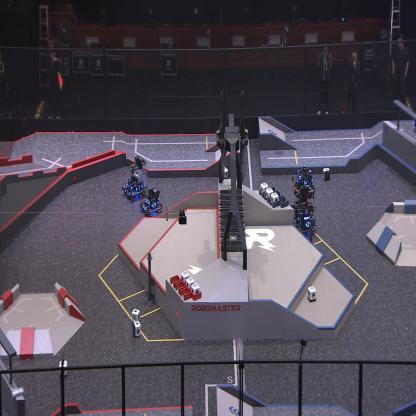car: (288, 185, 316, 234), (122, 154, 147, 200), (138, 185, 162, 216), (294, 164, 314, 189)
